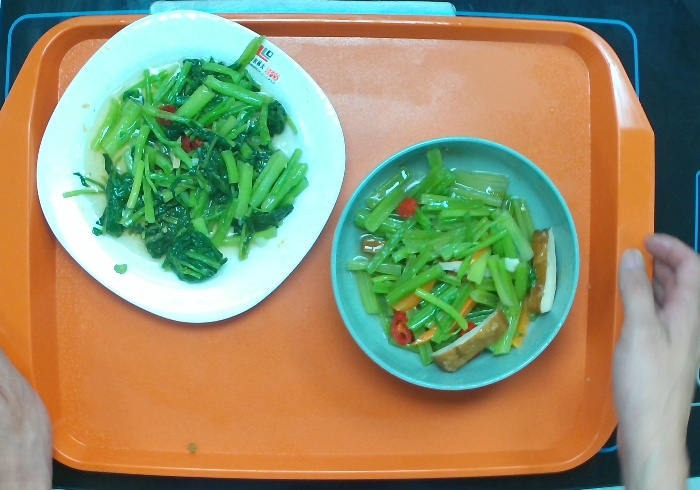ZNLD-Qing_Hua_Yuan_Wan: (328, 132, 583, 395)
ZNLD-Yuan_Jiao_Pan: (34, 7, 348, 328)
